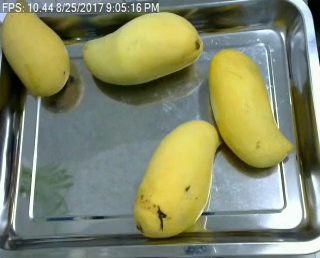Mango: (128, 119, 223, 241), (206, 48, 292, 171), (83, 10, 206, 87), (1, 0, 74, 95)
